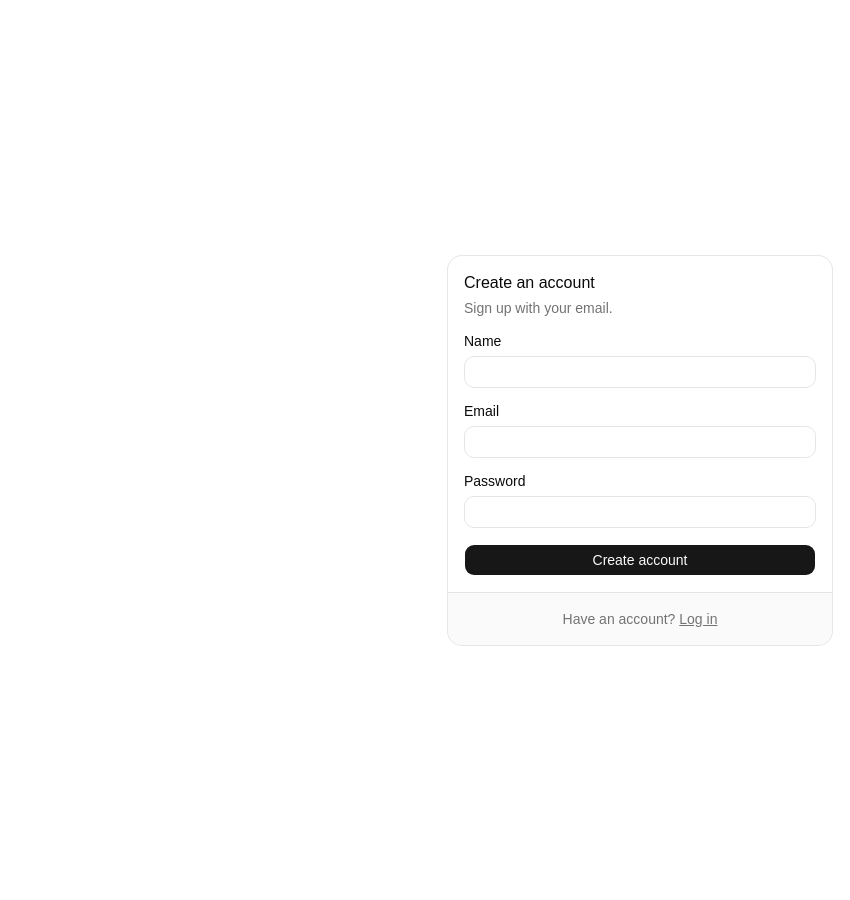
Test: signup › creates an account and lands on home
The width and height of the screenshot is (850, 900).
Type "Jane" into the field labelled "Name" at (640, 372), box [464,356,816,388]
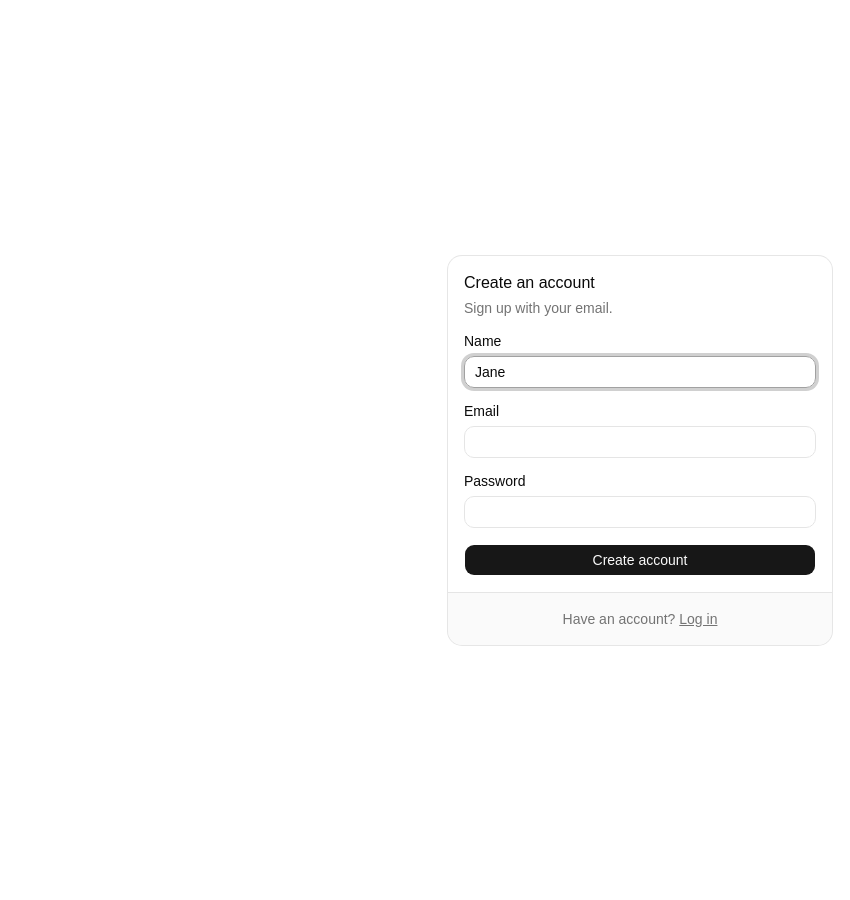
Type "jane@example.com" into the field labelled "Email" at (640, 442), box [464,426,816,458]
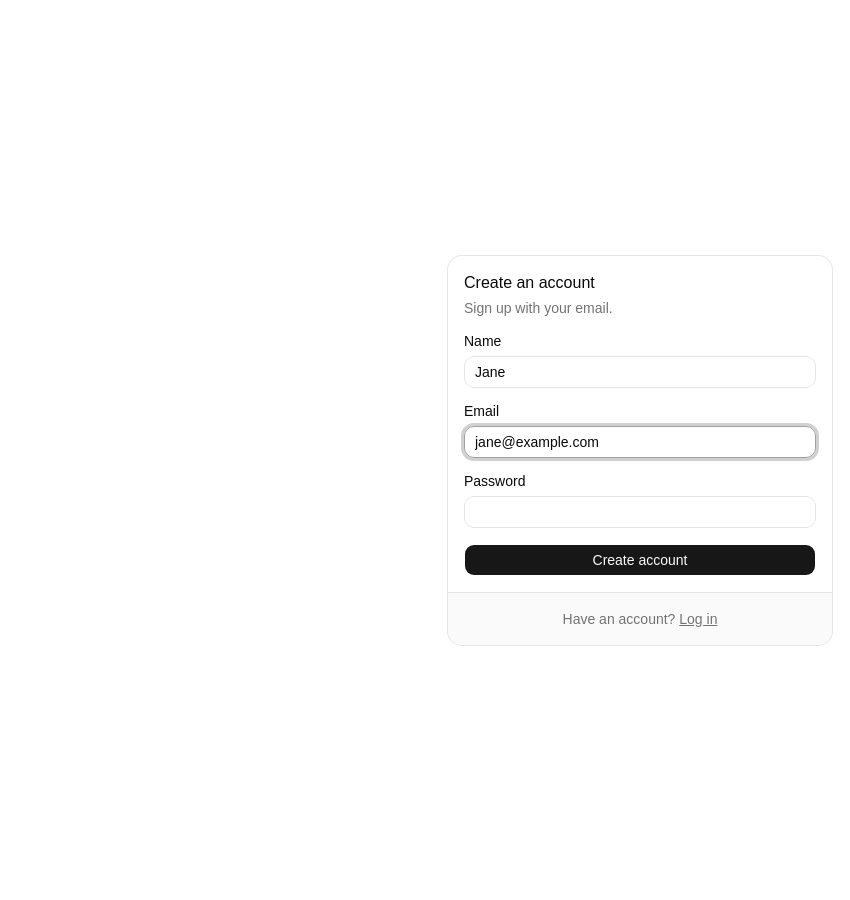
Type "hunter22" into the password field labelled "Password" at (640, 512), box [464,496,816,528]
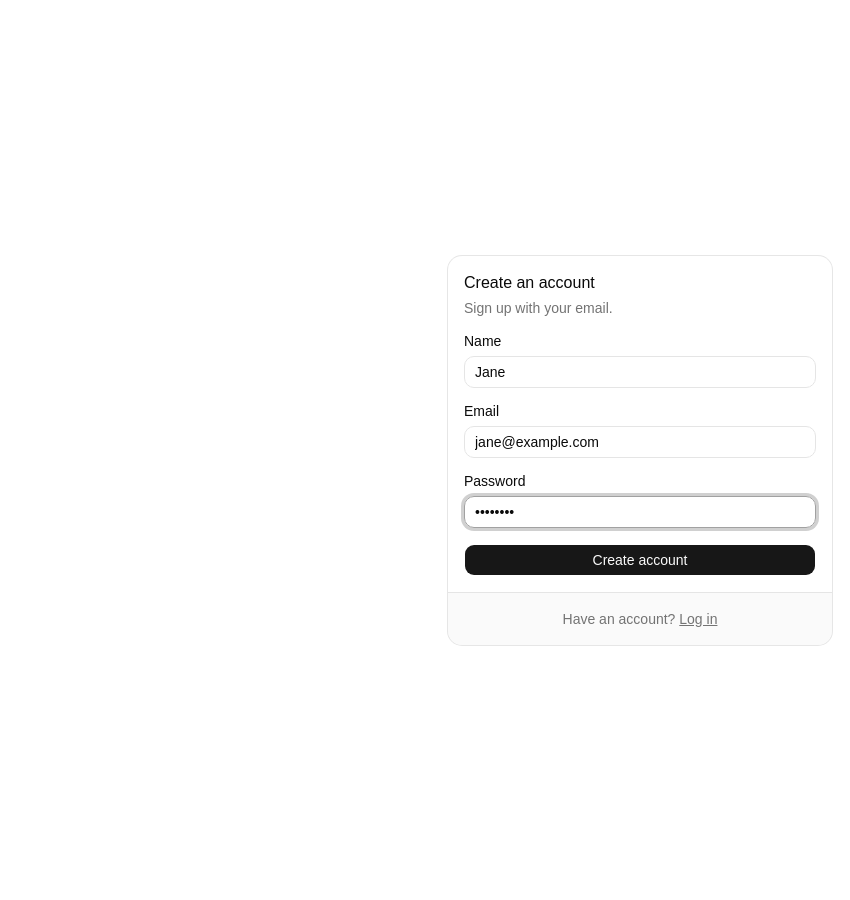
Click the button "Create account" at (640, 560), box [464,544,816,576]
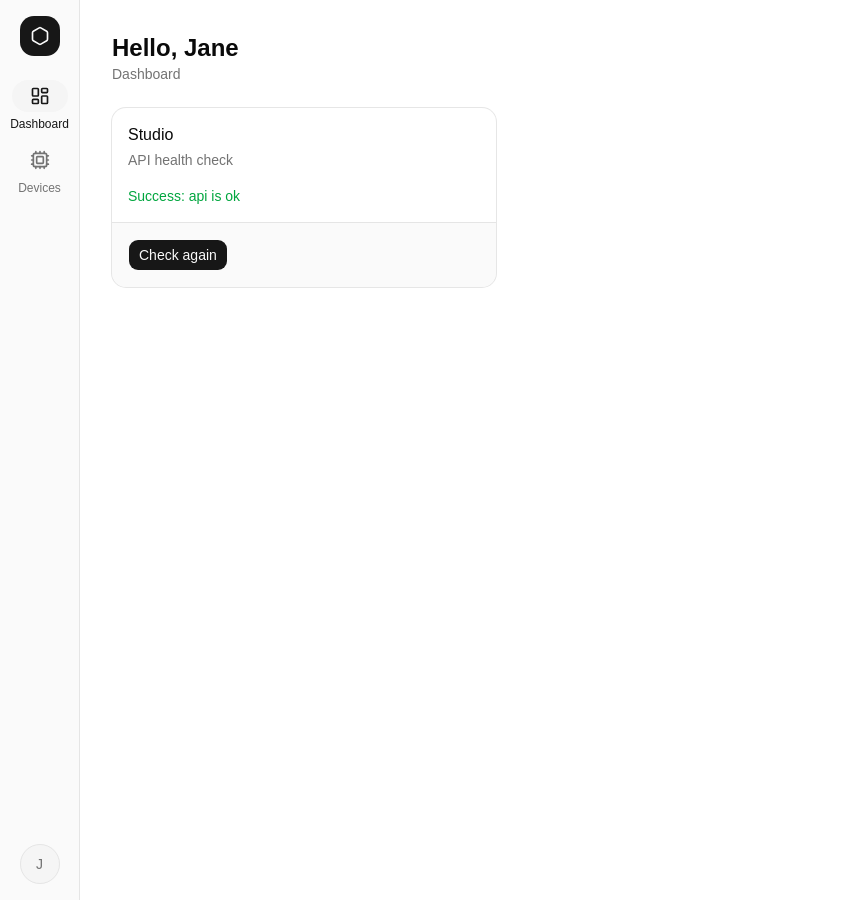
Now the heading "Hello, Jane" is shown, box [112,34,239,61]
